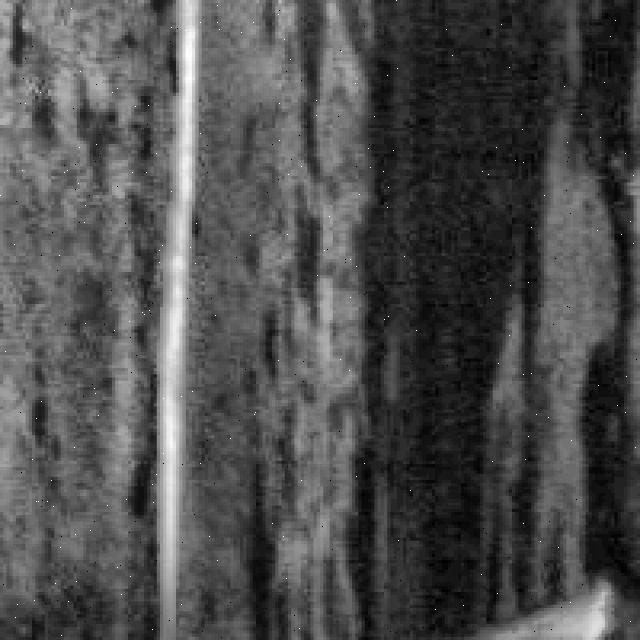Inclusion: (141, 0, 208, 618)
Patches: (262, 0, 589, 624)
